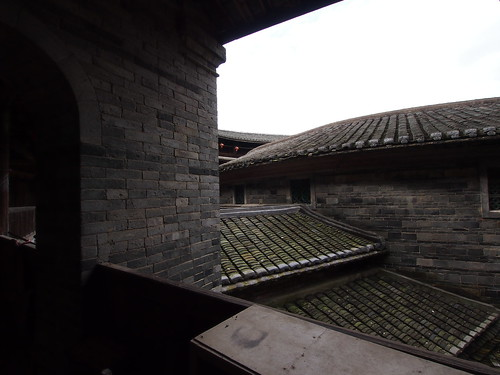building: (184, 96, 500, 309)
sky: (230, 1, 500, 121)
